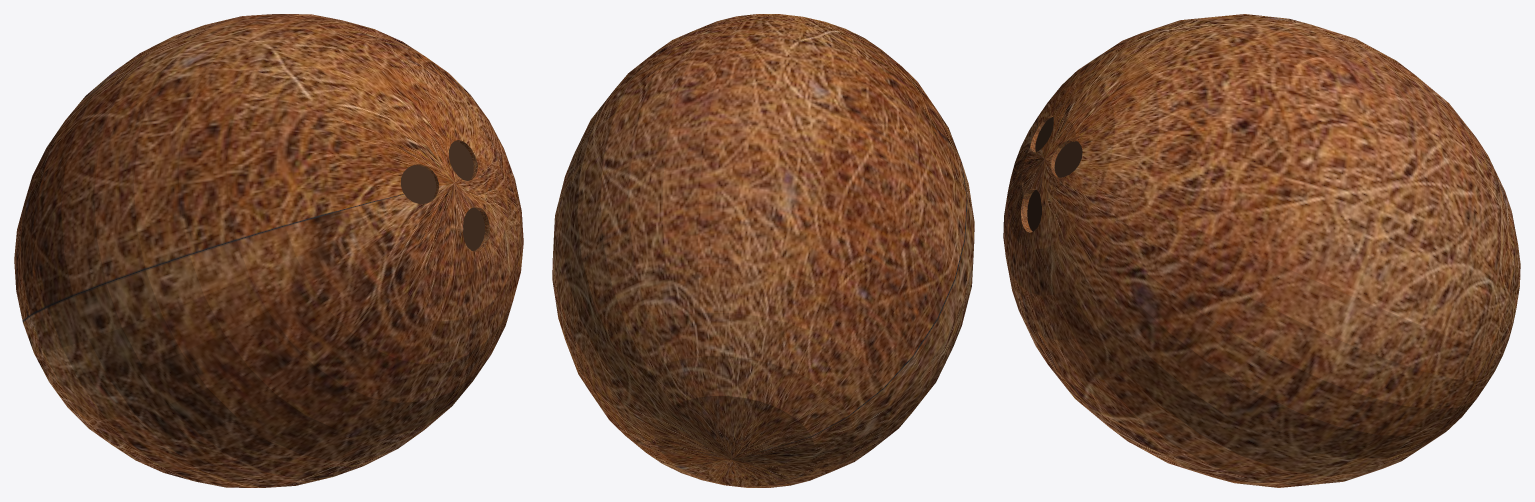
The model's file is WholeCoconut.fbx.
3 views of the same model, side by side, from view 1: azimuth 30°, elevation 25°; view 2: azimuth 150°, elevation 25°; view 3: azimuth 270°, elevation 25° (orthographic). The views are drawn at different scales.
Parts seen in each view (by area): view 1: WholeCoconut; view 2: WholeCoconut; view 3: WholeCoconut.
Part boxes in pixels (x1,y1,x2,y2): WholeCoconut: (14, 14, 523, 487); WholeCoconut: (552, 14, 974, 487); WholeCoconut: (1003, 14, 1520, 487).
Bounding box in the file's own units: 18.77 × 19.35 × 20.53.
Materials: 2 (1 with a texture image).
